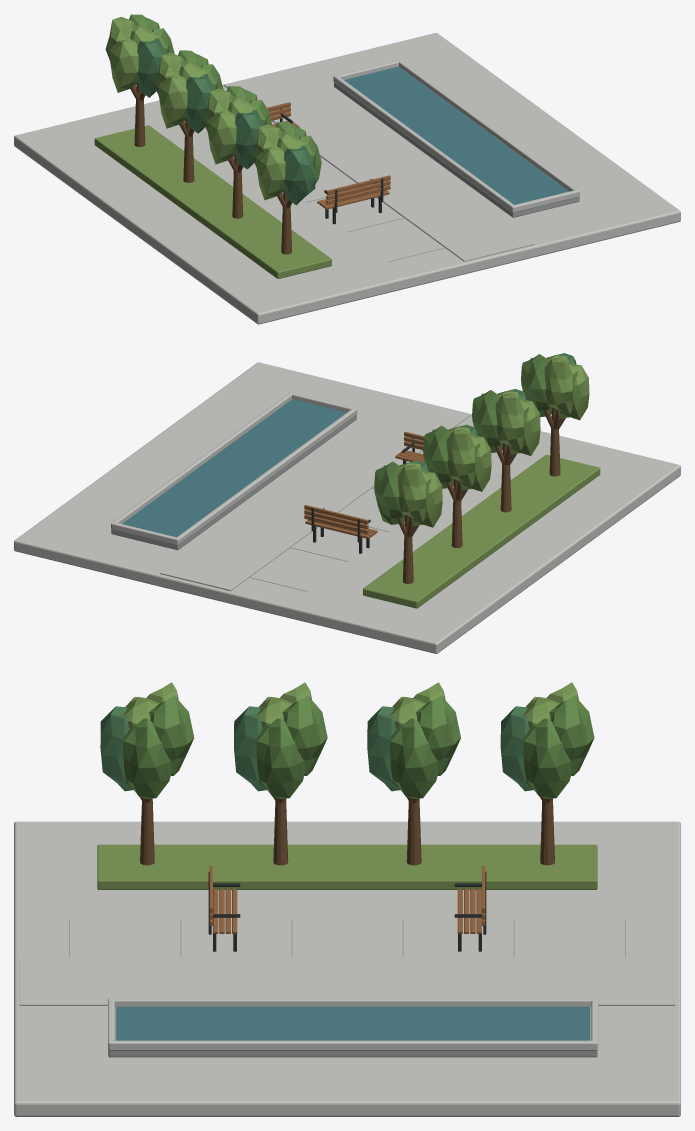
File: MODERN_MINIMAL_PARK.fbx
The picture shows the model from 3 angles, top to bottom: view 1: azimuth 30°, elevation 25°; view 2: azimuth 150°, elevation 25°; view 3: azimuth 270°, elevation 25°; orthographic projection. The views are drawn at different scales.
Visible parts, largest first — view 1: UNITY_ASSET_MODERN_MINIMAL_PARK; view 2: UNITY_ASSET_MODERN_MINIMAL_PARK; view 3: UNITY_ASSET_MODERN_MINIMAL_PARK.
Boxes of the visible parts, left/top/right/bottom form: UNITY_ASSET_MODERN_MINIMAL_PARK: left=14, top=14, right=680, bottom=324; UNITY_ASSET_MODERN_MINIMAL_PARK: left=14, top=353, right=680, bottom=653; UNITY_ASSET_MODERN_MINIMAL_PARK: left=14, top=682, right=680, bottom=1116.
Bounding box in the file's own units: 12 × 3.83 × 12.
